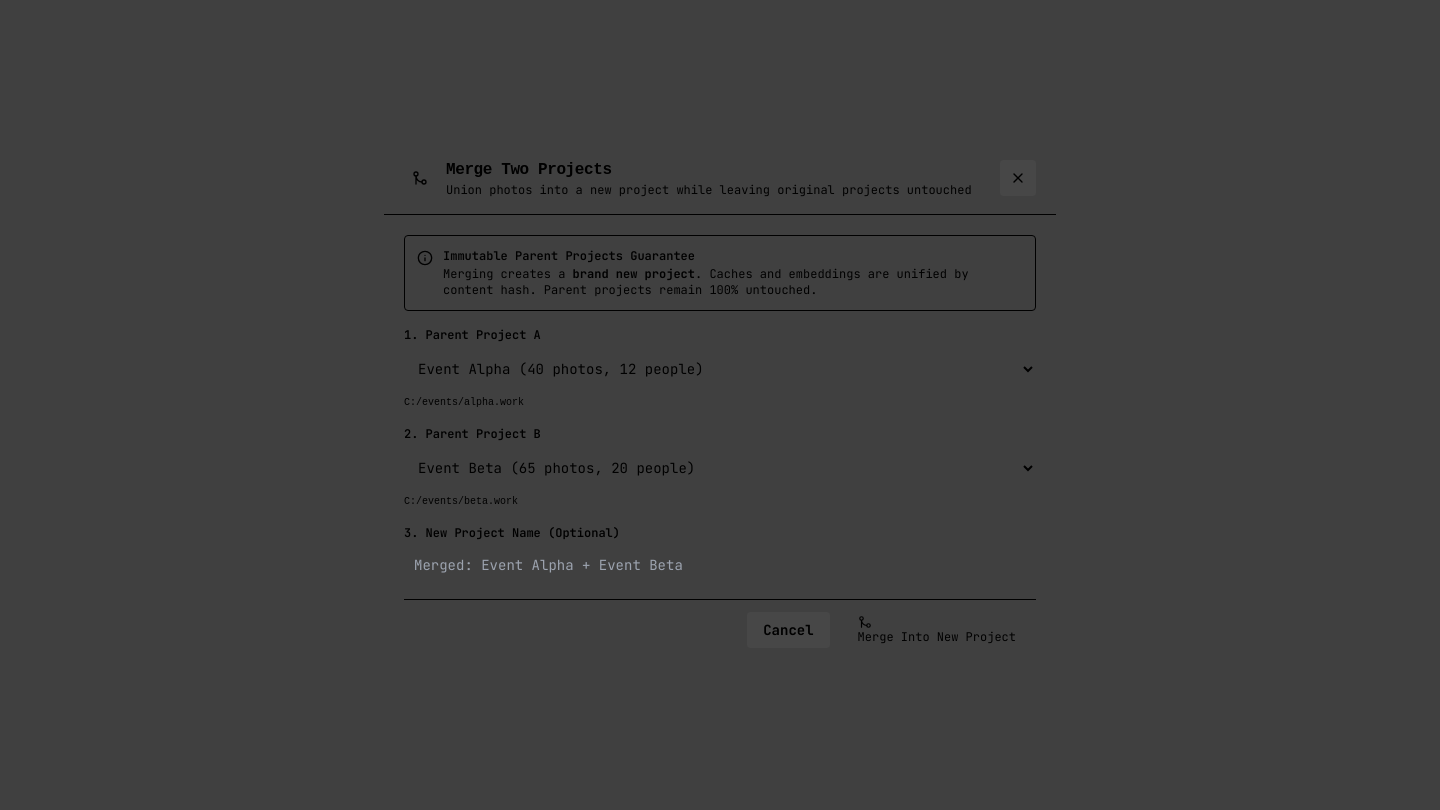
Test: MergeProjectsModal Component (Phase V2-4) › displays error alert when backend rejects merge due to incompatible settings
This screenshot has width=1440, height=810.
Click the button with test id "btn-confirm-merge".
click(937, 630)  # box [838,612,1036,648]
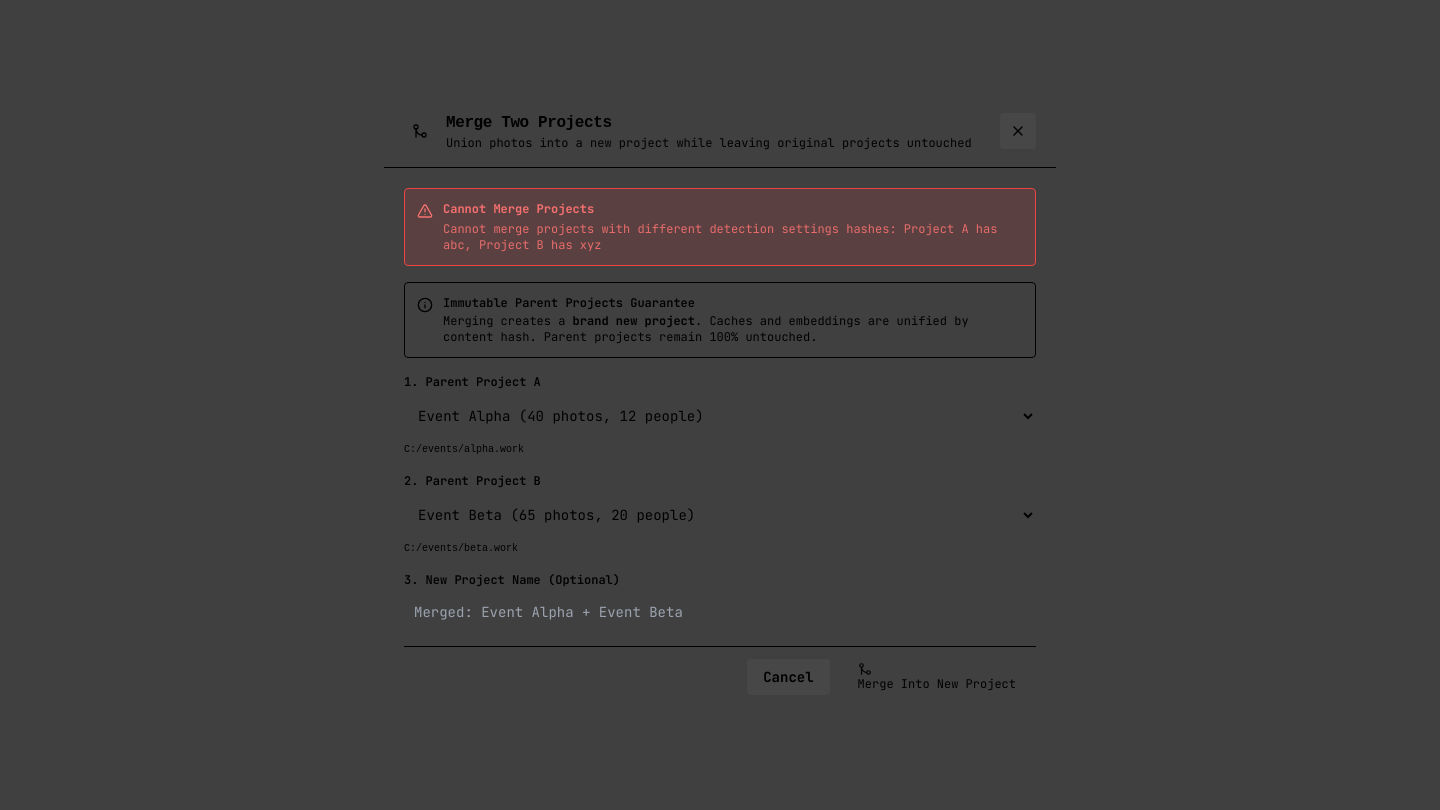
Expected: the element with test id "merge-error-alert" is shown, [404,188,1036,266]
Expected: the text "Cannot merge projects with different detection settings hashes" is shown, [443,221,997,253]
